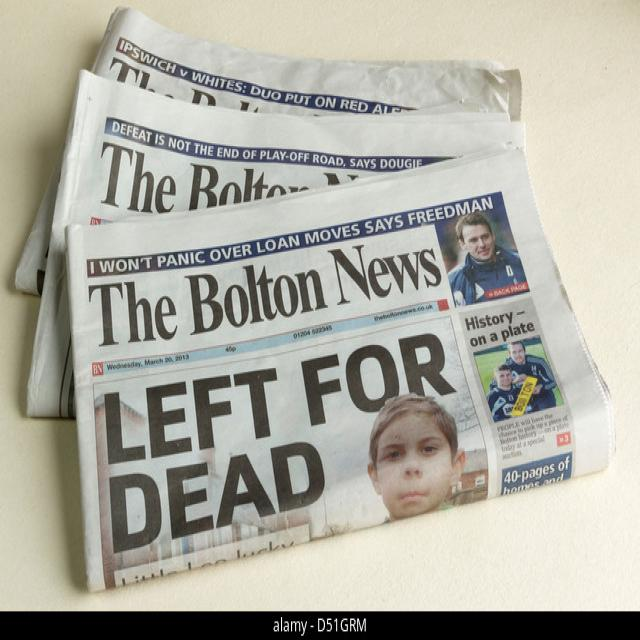newspaper: (20, 6, 608, 586)
